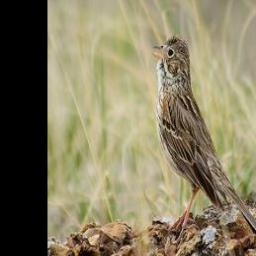Sparrow: (145, 27, 256, 252)
